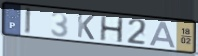2: (126, 18, 148, 46)
3: (50, 10, 70, 39)
A: (148, 20, 178, 49)
H: (99, 15, 125, 45)
I: (24, 6, 33, 36)
K: (76, 12, 96, 41)
